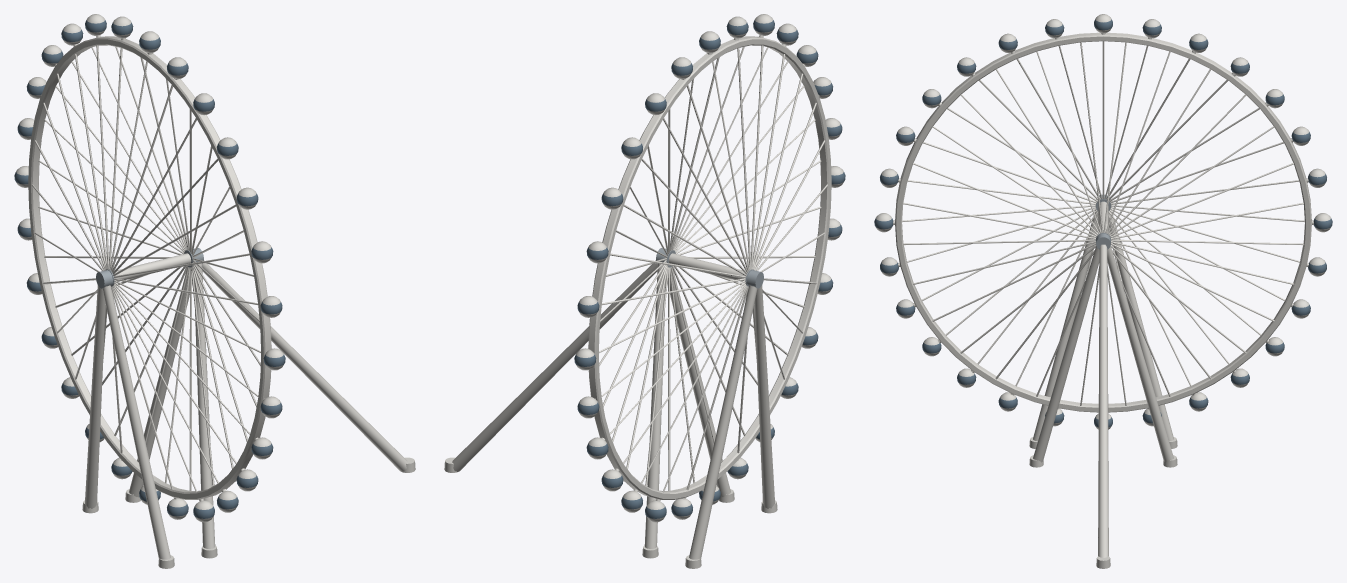
3 renders of one model, left to right at view 1: azimuth 30°, elevation 25°; view 2: azimuth 150°, elevation 25°; view 3: azimuth 270°, elevation 25°, orthographic. The views are drawn at different scales.
Parts seen in each view (by area): view 1: high-roller; view 2: high-roller; view 3: high-roller.
Part boxes in pixels (<box>): high-roller: <box>14,14,415,568</box>; high-roller: <box>444,14,845,568</box>; high-roller: <box>874,14,1332,568</box>.
Size of the model in its own units: 110 by 167 by 158.
